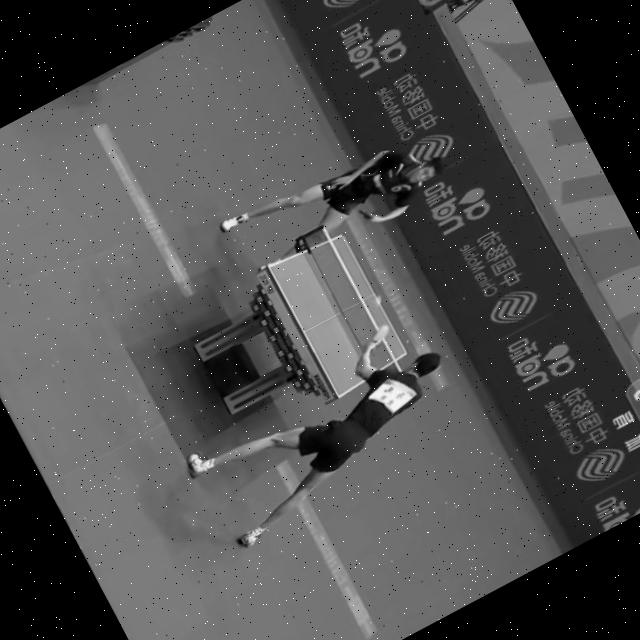ping-pong-ball: (372, 295, 383, 306)
